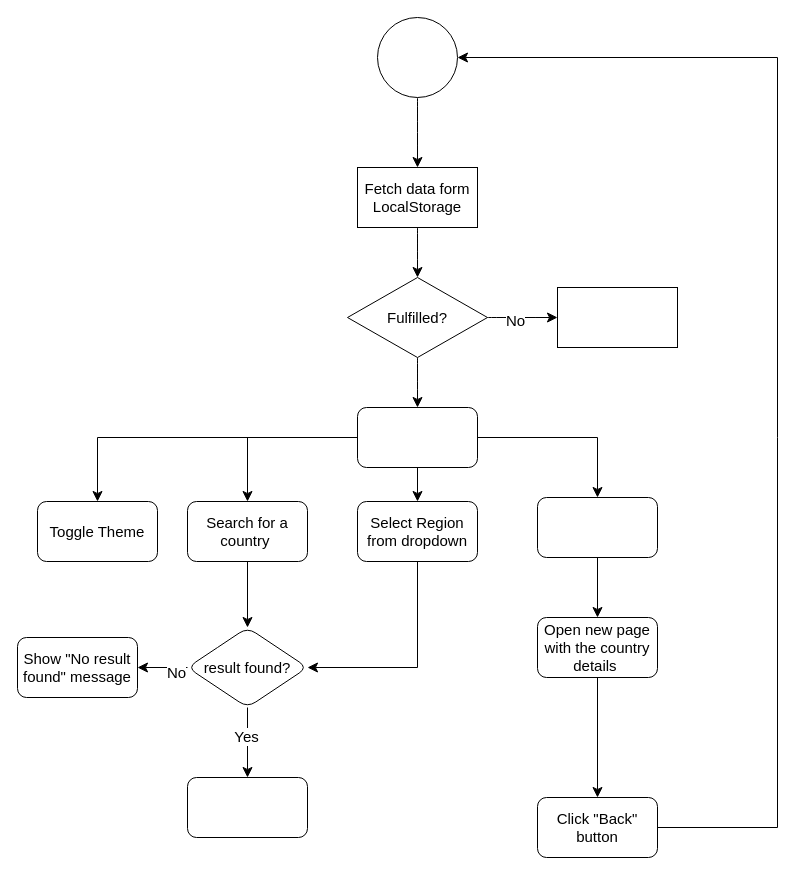
The diagram is 805 pixels wide and 875 high, and some of its shapes have lost their labels. The box of each missing label's shape, as (x1, y1, x2, y2) in pixels:
Choose a country from the list: (536, 496, 658, 558)
Fetch data form API and save it to LocalStorage: (556, 286, 678, 348)
Render Countries list: (356, 406, 478, 468)
Render result list: (186, 776, 308, 838)
Start: (376, 16, 458, 98)
